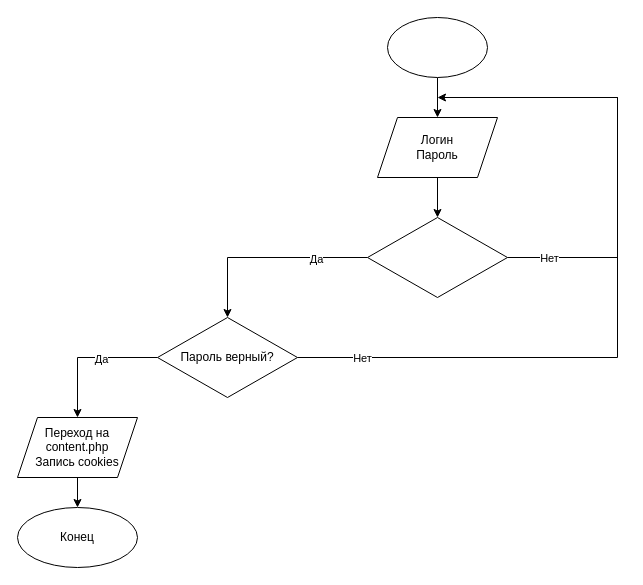
This 643x585 diagram has some shape labels left out. Here are the shapes that lost their labels. From the top down, the box of each, then its label:
(386, 16, 488, 78): Начало
(366, 216, 508, 298): Логин существует?
